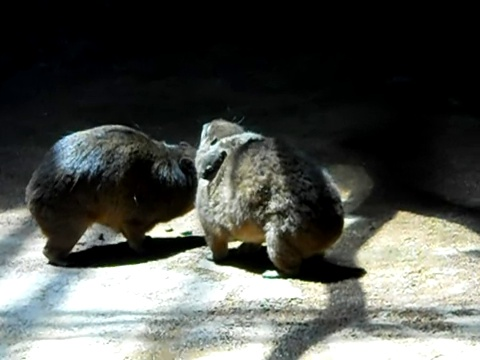Rock Hyrex: (198, 118, 368, 279), (22, 124, 199, 265)
